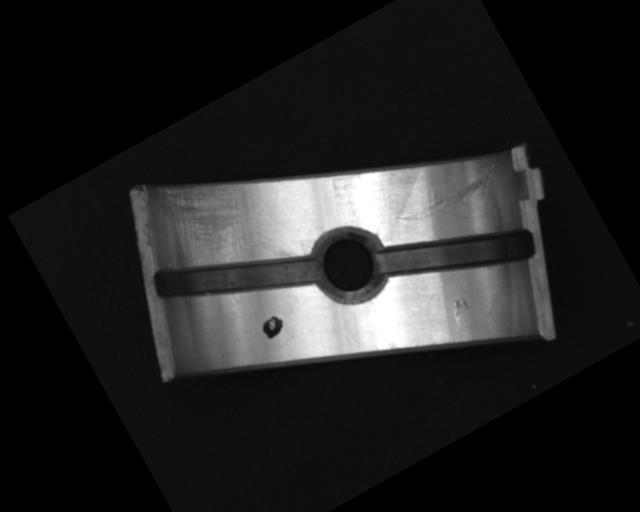blot: (257, 311, 288, 341)
bruise: (444, 294, 478, 331)
gap: (148, 200, 324, 352), (370, 183, 541, 325)
hole: (296, 209, 403, 317)
nick: (390, 157, 516, 253)
scratch: (146, 141, 295, 303)
